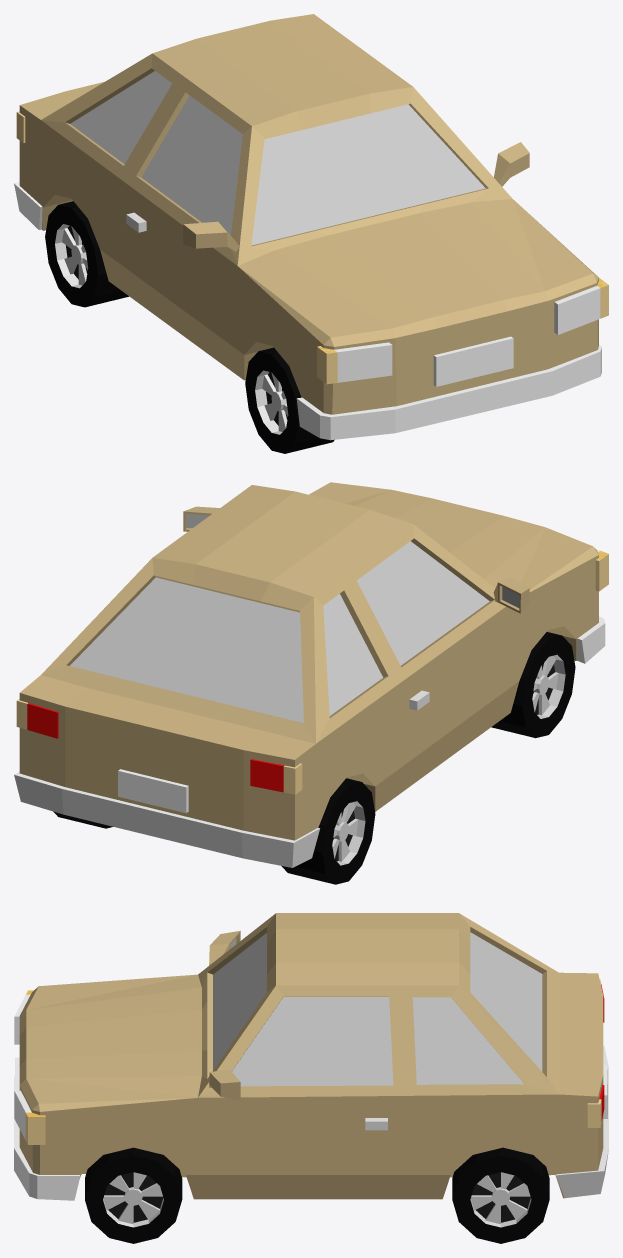
Rendered from Car-12-D.fbx.
3 views of the same model, one above another, from view 1: azimuth 30°, elevation 25°; view 2: azimuth 150°, elevation 25°; view 3: azimuth 270°, elevation 25° (orthographic). The views are drawn at different scales.
Parts seen in each view (by area): view 1: Car-12, BR, FR, Head-Light, Light-Right; view 2: Car-12, BR, FR, Break-Light, Light-Right; view 3: Car-12, FL, BL, Light-Left, Head-Light.
Boxes of the visible parts, <box> form: Car-12: <box>14,14,607,440</box>; BR: <box>45,201,128,307</box>; FR: <box>245,347,334,453</box>; Head-Light: <box>334,286,600,382</box>; Light-Right: <box>16,111,337,384</box>; Car-12: <box>14,482,608,867</box>; BR: <box>281,778,375,884</box>; FR: <box>491,632,575,738</box>; Break-Light: <box>27,703,284,792</box>; Light-Right: <box>283,550,608,794</box>; Car-12: <box>14,913,608,1200</box>; FL: <box>85,1147,182,1243</box>; BL: <box>452,1147,549,1243</box>; Light-Left: <box>25,1099,601,1144</box>; Head-Light: <box>14,994,31,1139</box>.
Size of the model in its own units: 2.45 by 1.79 by 4.08.
